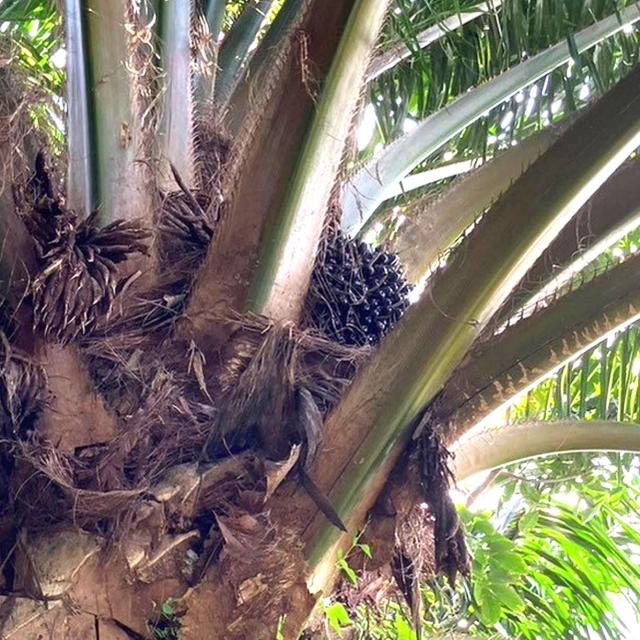unripe: (307, 232, 416, 373)
